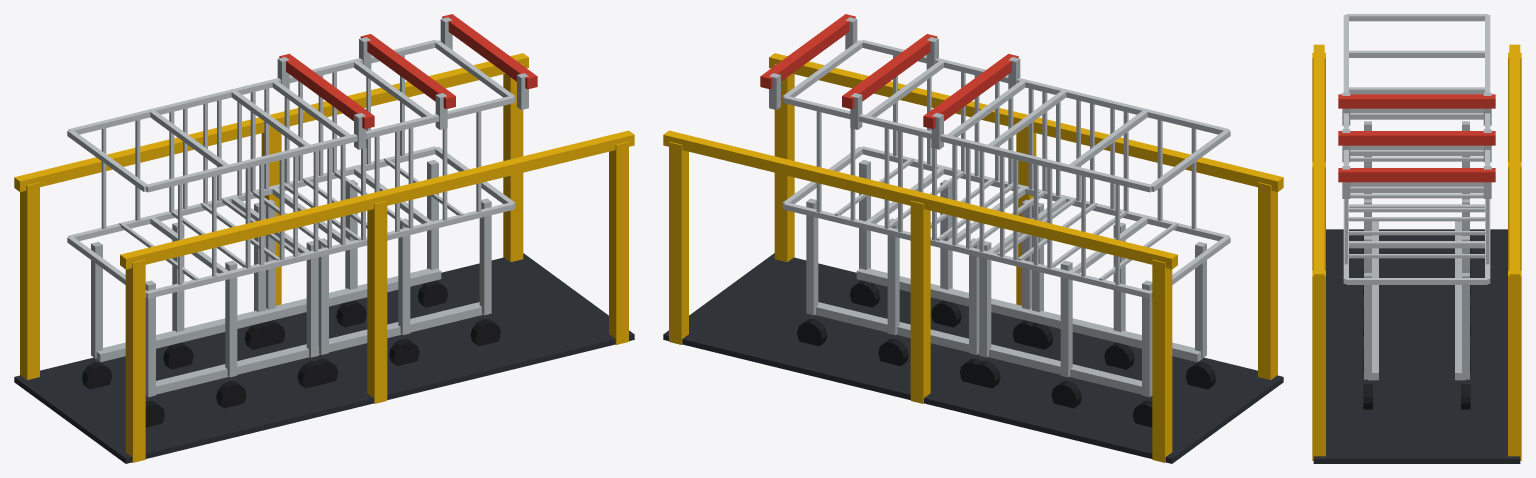
The model's file is trolleys.glb.
3 views of the same model, side by side, from view 1: azimuth 30°, elevation 25°; view 2: azimuth 150°, elevation 25°; view 3: azimuth 270°, elevation 25° (orthographic). The views are drawn at different scales.
Parts seen in each view (by area): view 1: Trolleys; view 2: Trolleys; view 3: Trolleys.
Part boxes in pixels (bbox=[...]): Trolleys: bbox=[14, 14, 634, 463]; Trolleys: bbox=[663, 14, 1283, 463]; Trolleys: bbox=[1312, 14, 1521, 463].
Size of the model in its own units: 2 by 1.03 by 0.77.
